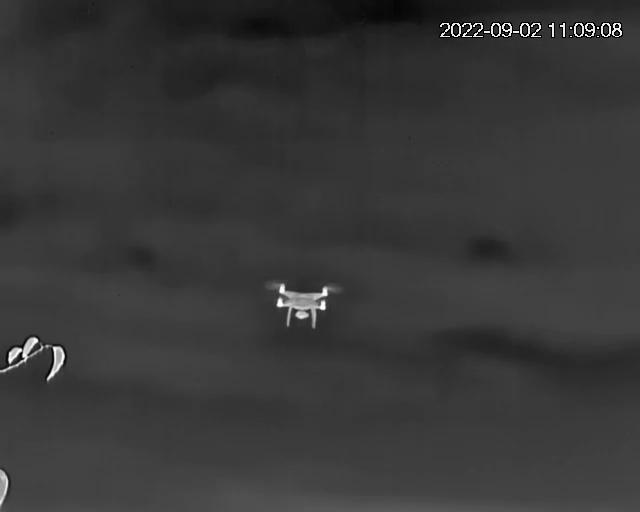DJI-Phantom: (265, 279, 340, 325)
